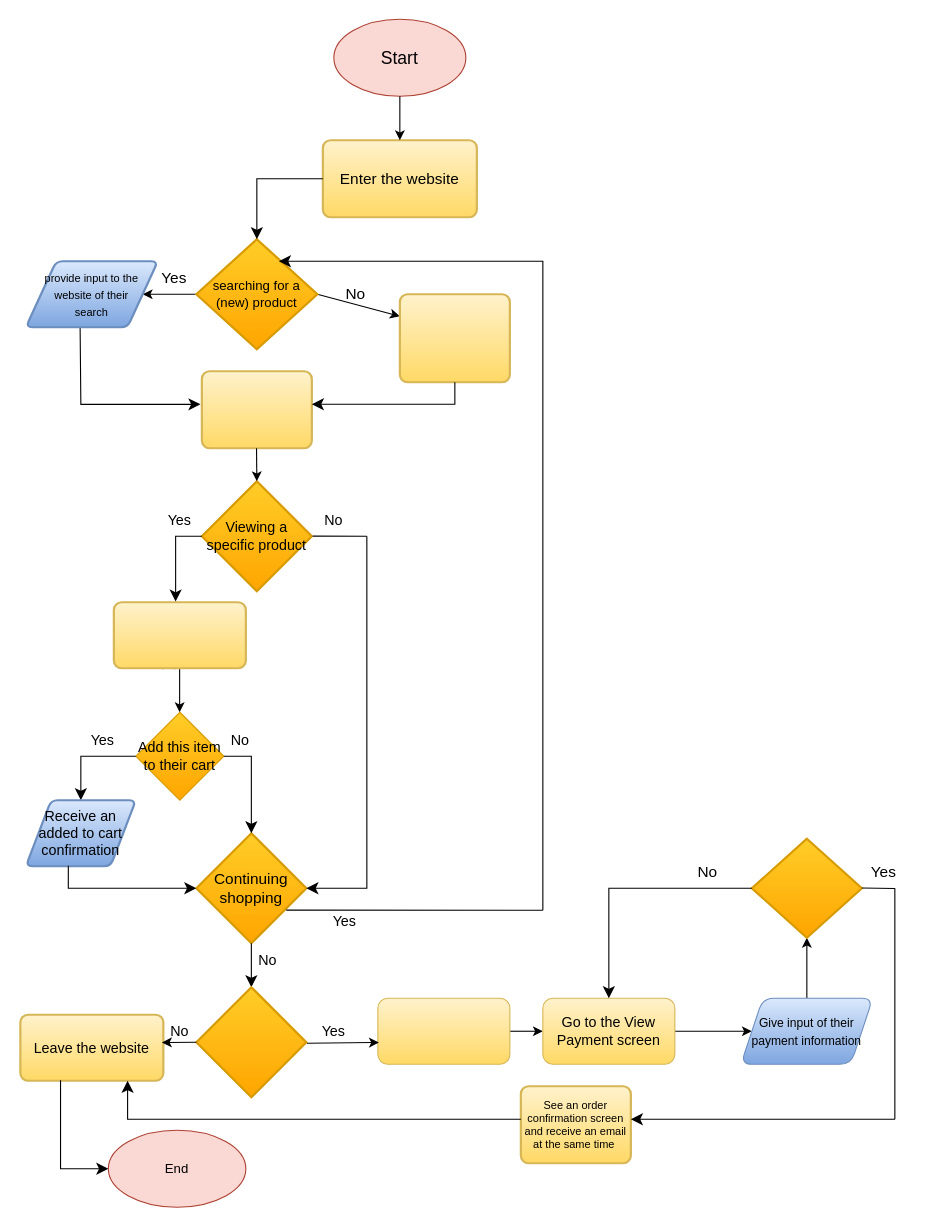
Image size: 935x1227. Some labels were removed from this diagram. The centre of each missing label's shape, as x and y in pixels:
"Checkout" belongs at (x=251, y=1042).
"Exploring the products on the home page" belongs at (x=454, y=338).
"Looking over the products" belongs at (x=256, y=409).
"Paid successful" belongs at (x=806, y=887).
"Reach the View Cart screen" belongs at (x=443, y=1030).
"That product's webpage will open" belongs at (x=179, y=635).
